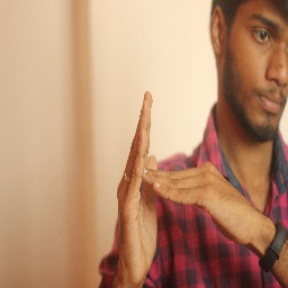Z: (111, 84, 261, 277)
